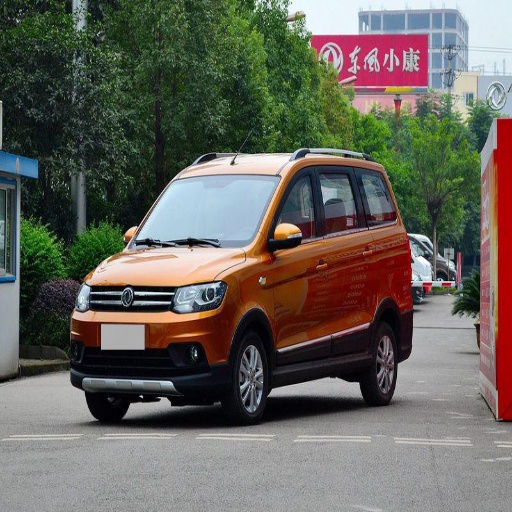front_bumper: (71, 286, 237, 392)
front_glass: (134, 177, 277, 247)
front_left_door: (267, 163, 333, 359)
trunk: (383, 238, 408, 312)
